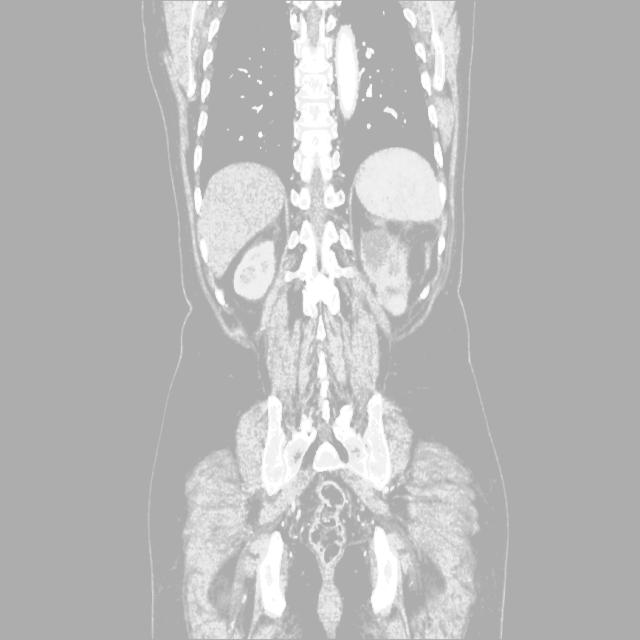TUMOR: (170, 157, 457, 316)
